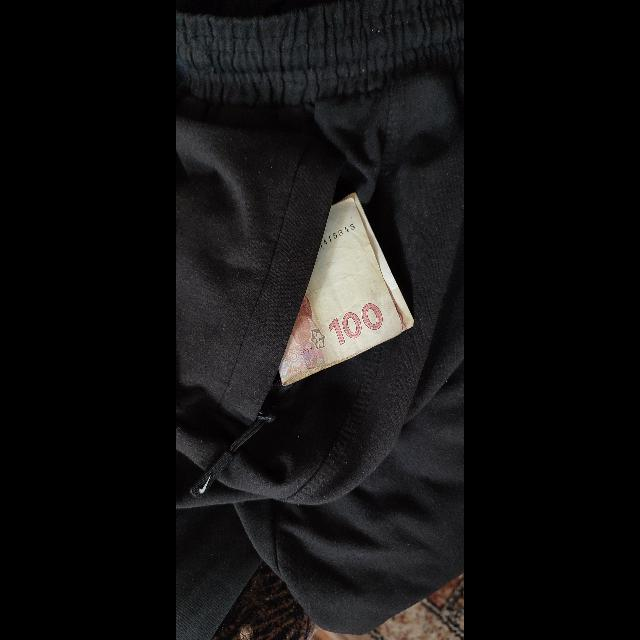100uah: (278, 198, 412, 385)
